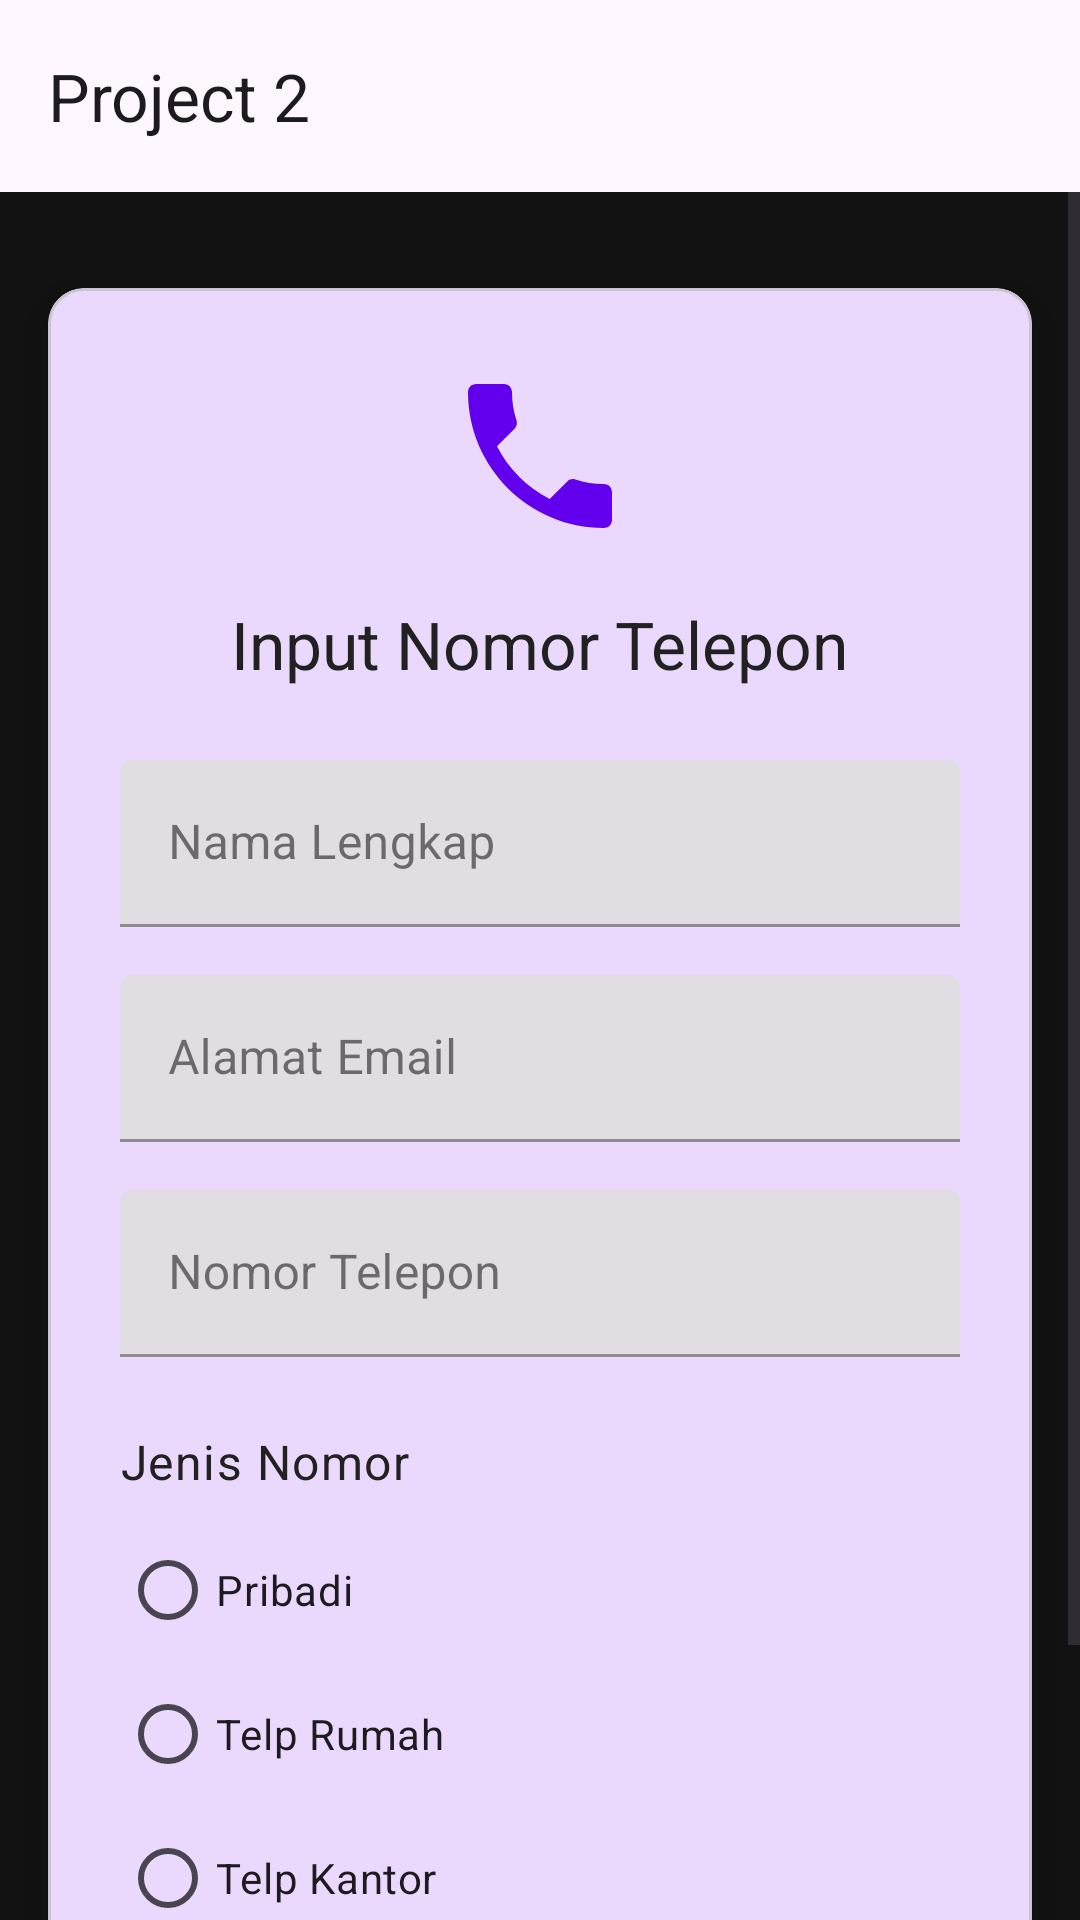

Named icons in this screenshot (1080w x 1920h) and their bounding boxes, [x1=x1, y1=y1, x2=x2, y2=y2]:
phone: [x1=468, y1=384, x2=612, y2=528]
